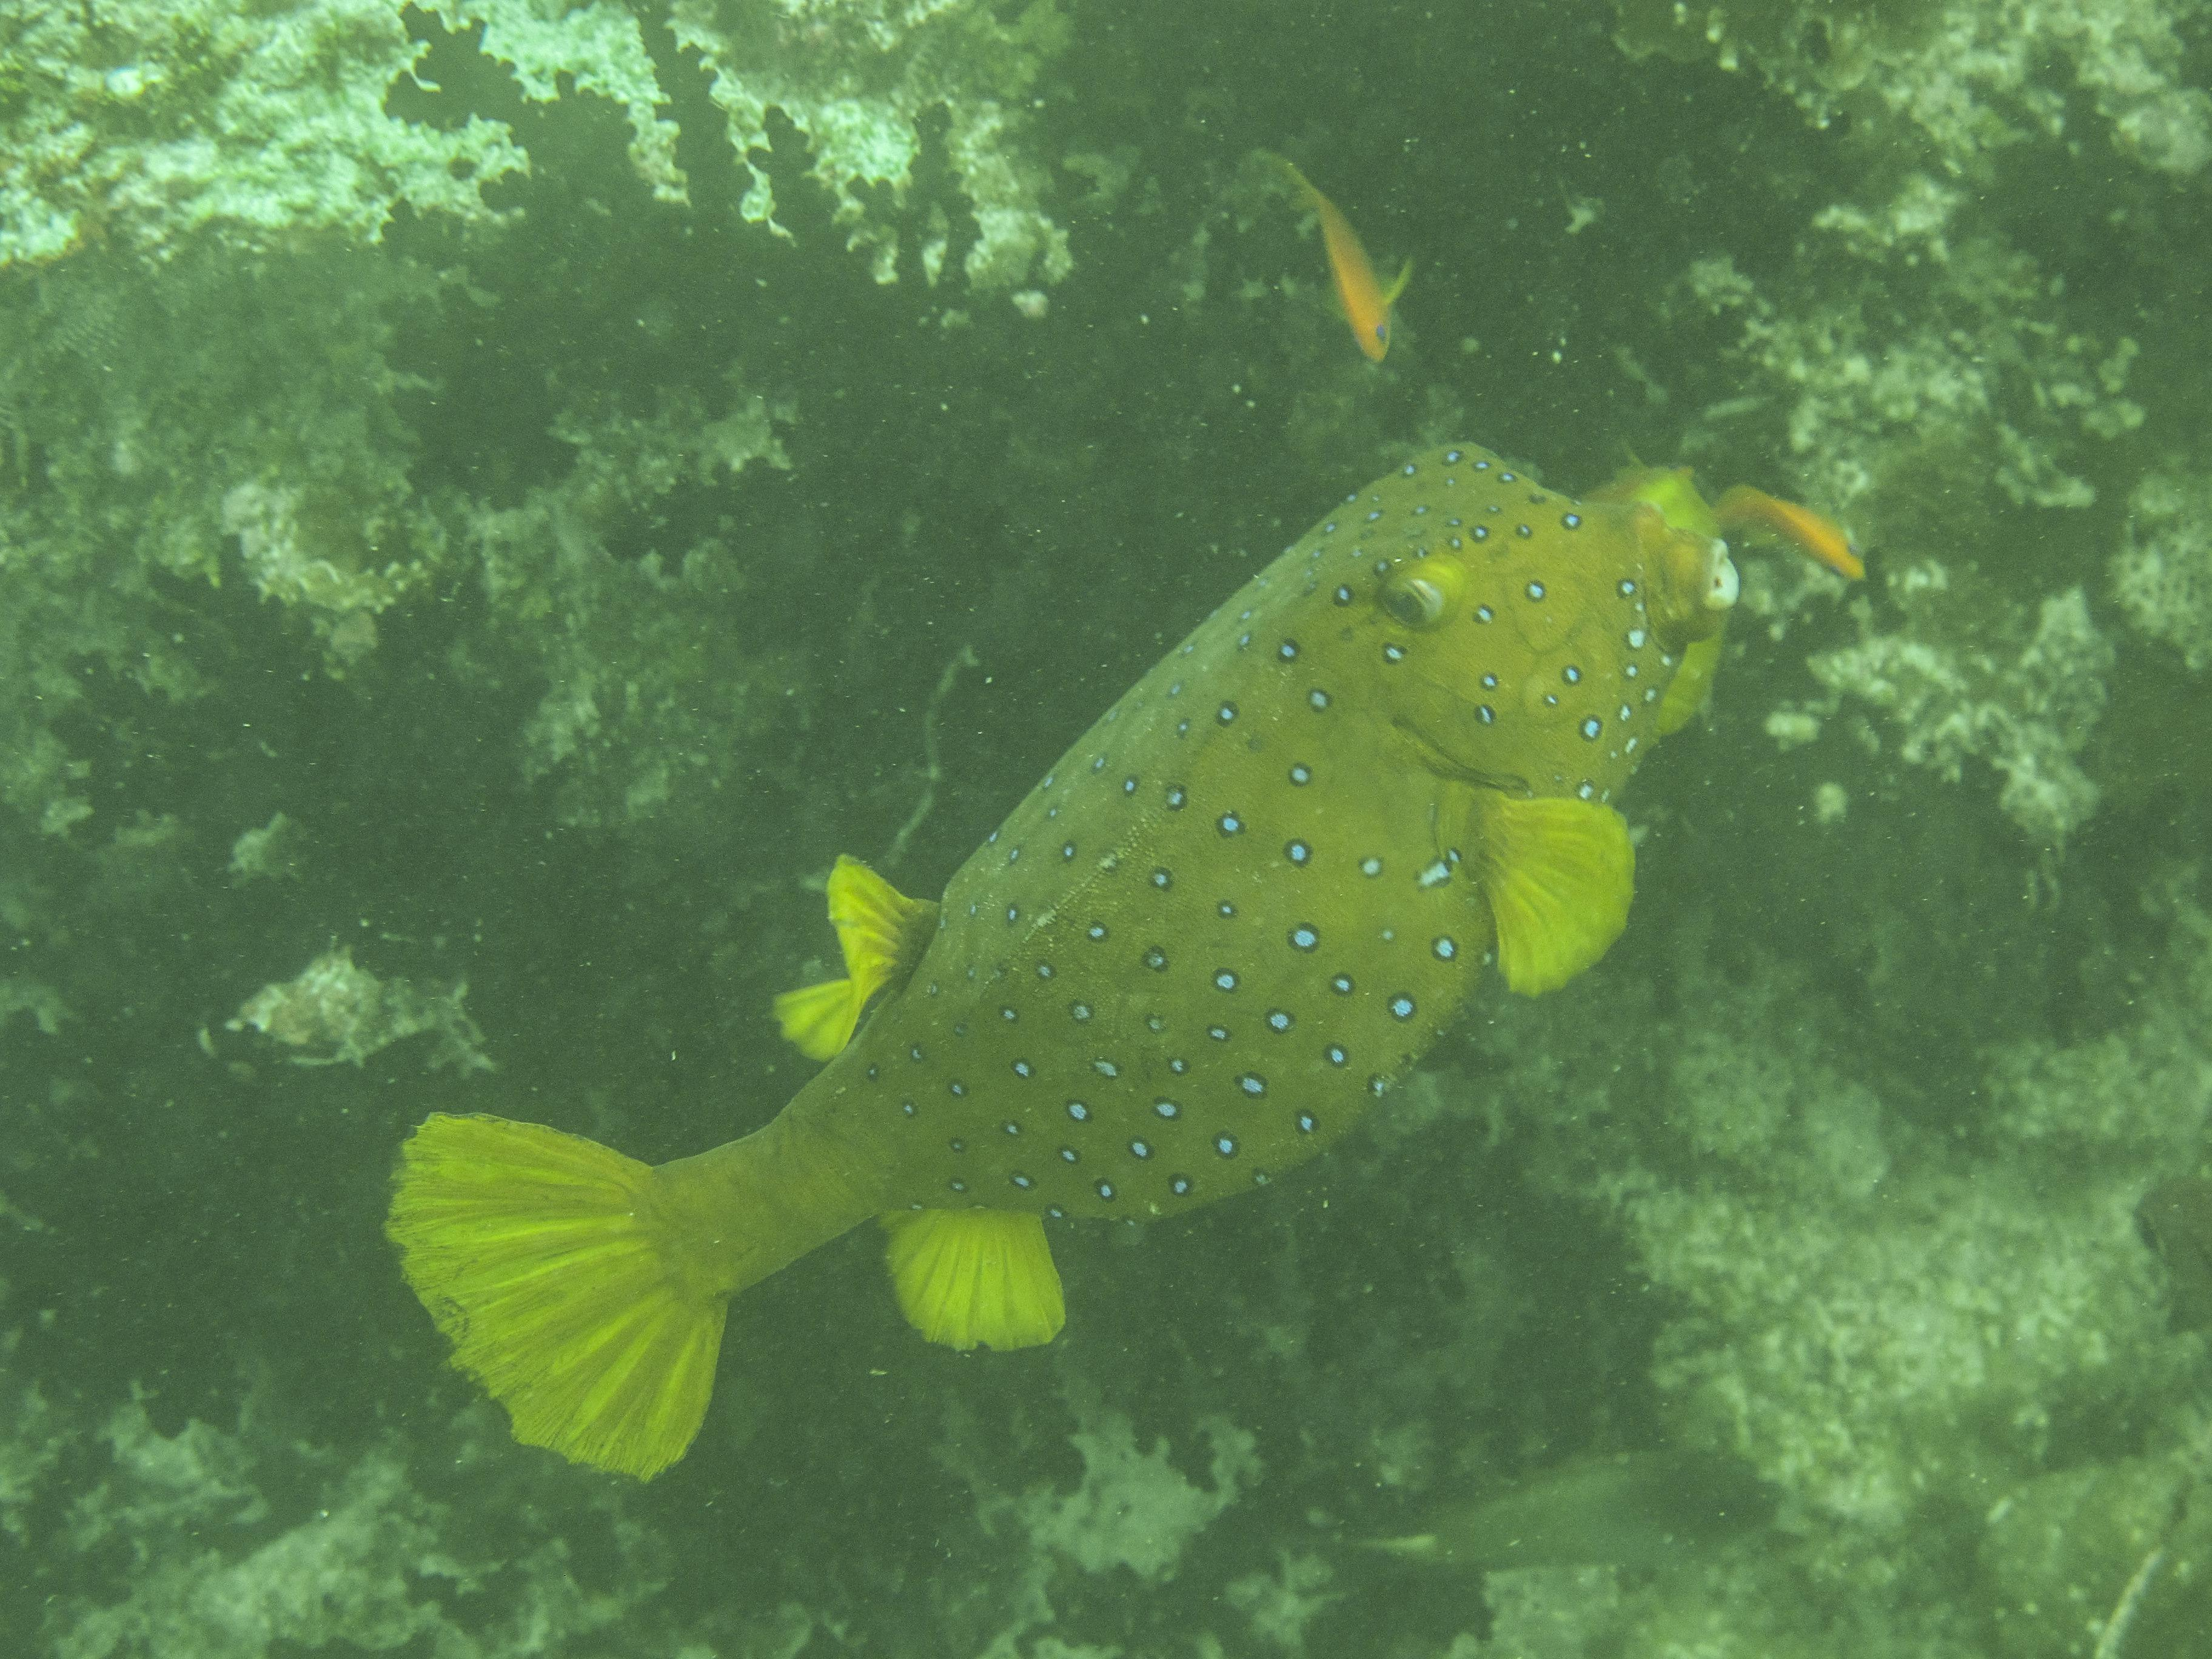Fish: (352, 420, 1785, 1493)
